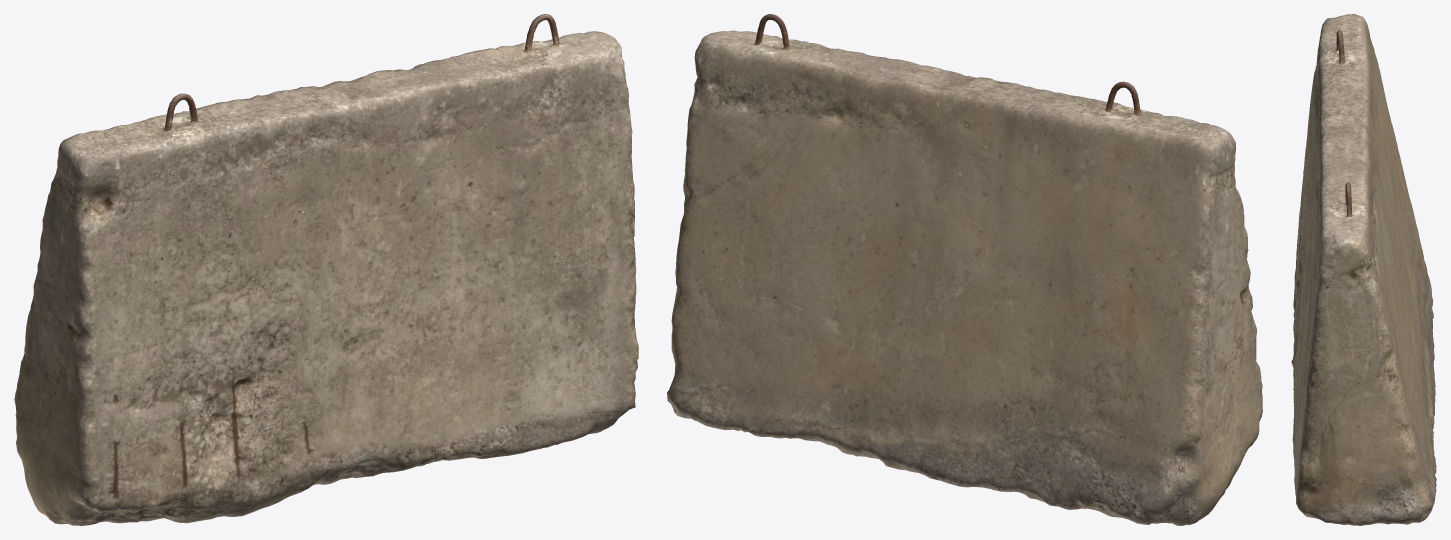
Rendered from concrete_road_barrier_02_1k.glb.
3 views of the same model, side by side, from view 1: azimuth 30°, elevation 25°; view 2: azimuth 150°, elevation 25°; view 3: azimuth 270°, elevation 25° (orthographic). The views are drawn at different scales.
Visible parts, largest first — view 1: concrete_road_barrier_02; view 2: concrete_road_barrier_02; view 3: concrete_road_barrier_02.
Part boxes in pixels (x1,y1,x2,y2): concrete_road_barrier_02: (14,14,638,525); concrete_road_barrier_02: (667,14,1262,525); concrete_road_barrier_02: (1291,14,1436,525).
Bounding box in the file's own units: 1.57 × 1.11 × 0.4421.
Materials: 1 (1 with a texture image).
